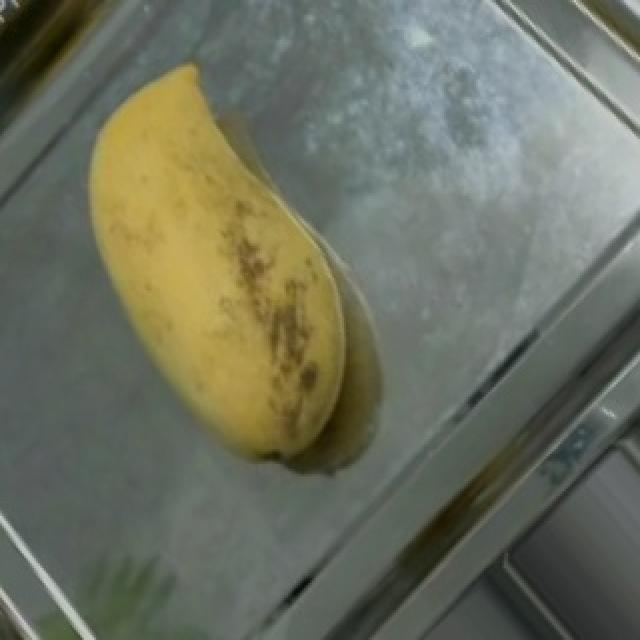fruit: (34, 25, 398, 466)
